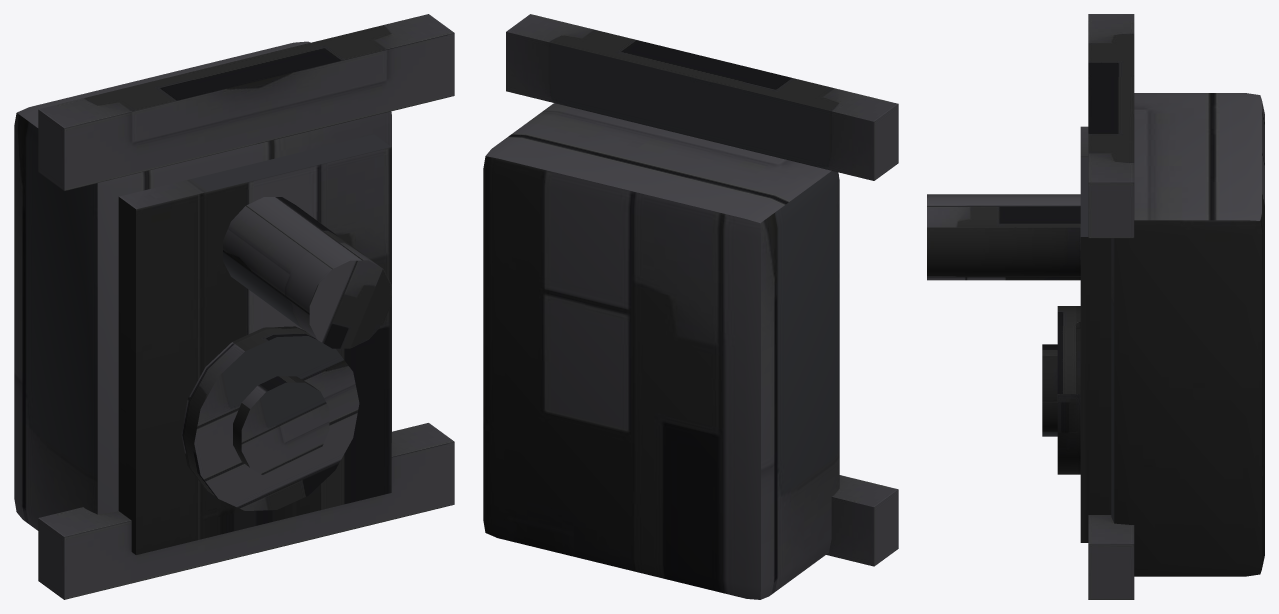
The model's file is DD_lock_key.glb.
The picture shows the model from 3 angles, left to right: view 1: azimuth 30°, elevation 25°; view 2: azimuth 150°, elevation 25°; view 3: azimuth 270°, elevation 25°; orthographic projection. The views are drawn at different scales.
Parts seen in each view (by area): view 1: DD_lock_key; view 2: DD_lock_key; view 3: DD_lock_key.
Boxes of the visible parts, x1,y1,x2,y2 form: DD_lock_key: (14, 14, 454, 599); DD_lock_key: (483, 14, 898, 599); DD_lock_key: (927, 14, 1264, 599).
Size of the model in its own units: 0.26 by 0.3 by 0.22.
Materials: 1 (1 with a texture image).
